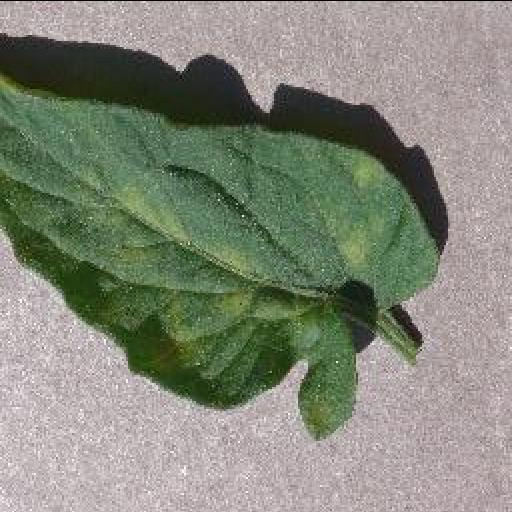disease_tomato: (0, 74, 436, 440)
